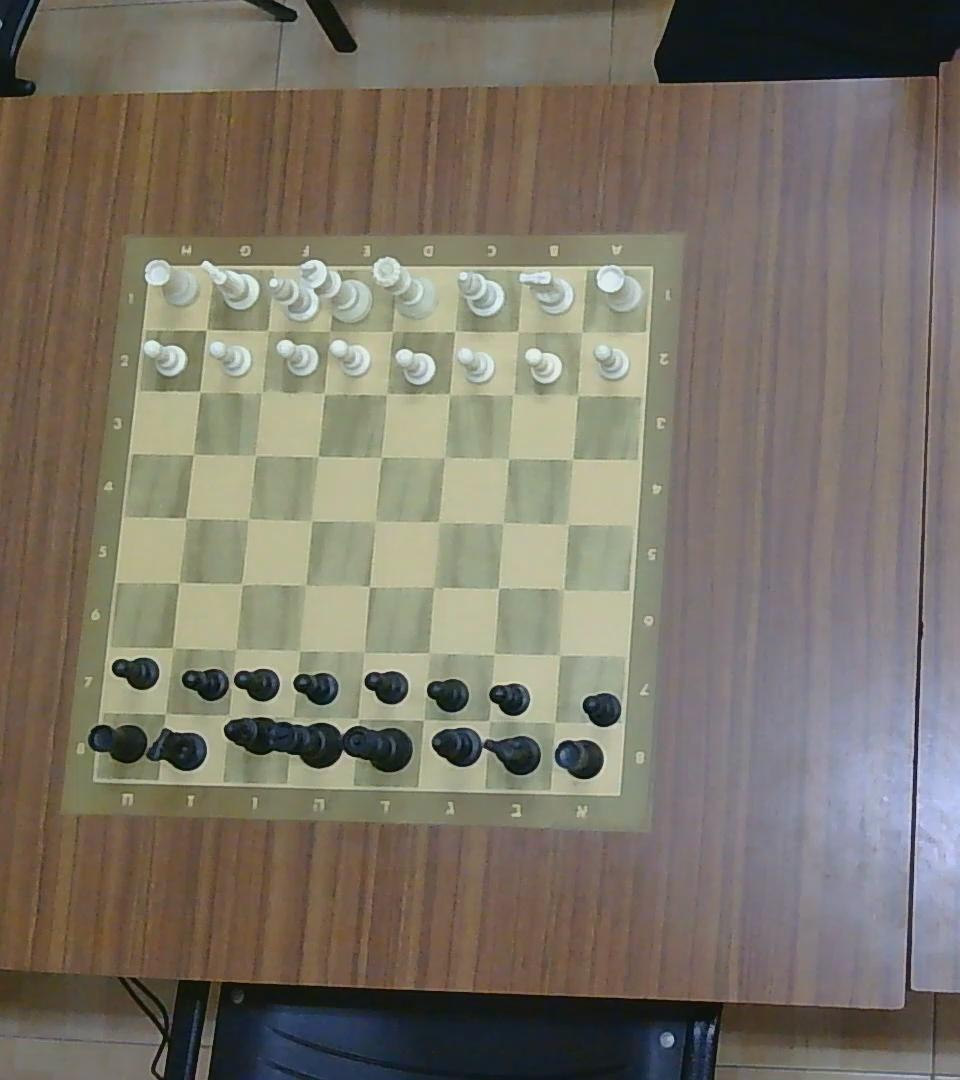xcorner: (343, 707, 368, 733), (154, 701, 178, 725), (217, 703, 239, 727), (476, 709, 499, 731), (162, 637, 185, 658), (552, 578, 575, 599), (542, 712, 566, 732), (318, 320, 341, 340), (245, 445, 266, 465), (413, 710, 434, 730), (169, 572, 189, 592), (289, 639, 309, 659), (364, 511, 384, 531), (182, 443, 201, 464), (423, 577, 442, 597), (483, 644, 502, 664), (225, 639, 244, 659), (567, 385, 587, 404), (376, 383, 395, 402), (360, 577, 379, 596), (445, 321, 464, 340), (196, 319, 215, 338), (440, 383, 459, 402), (382, 321, 401, 340), (549, 645, 568, 664), (420, 643, 439, 662), (488, 579, 507, 598), (296, 575, 314, 595), (354, 642, 374, 660), (429, 511, 447, 531), (315, 383, 333, 402), (371, 447, 389, 466), (177, 508, 195, 527), (302, 510, 320, 529), (240, 508, 258, 527), (510, 321, 528, 340), (559, 515, 578, 533), (494, 513, 512, 532), (232, 574, 250, 593), (504, 385, 522, 404), (435, 448, 453, 466), (499, 448, 517, 466), (308, 446, 326, 464), (259, 321, 277, 339), (251, 382, 269, 400), (190, 382, 207, 400), (573, 322, 591, 339), (564, 450, 582, 467)
